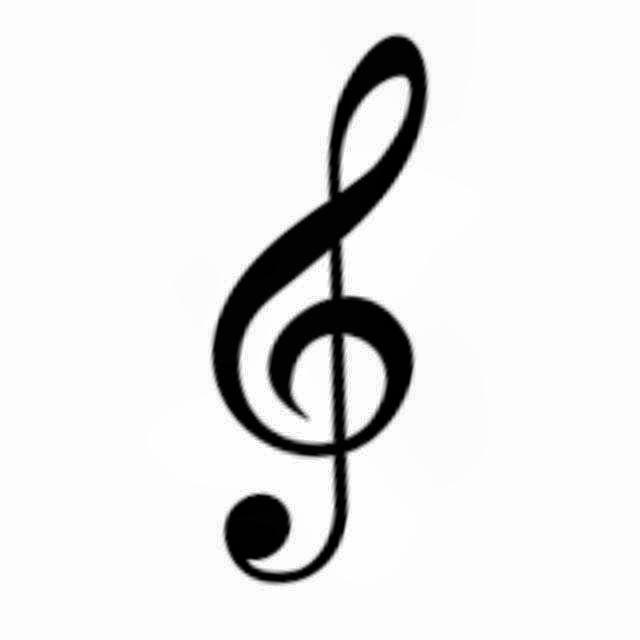Treble-clef: (190, 22, 470, 604)
